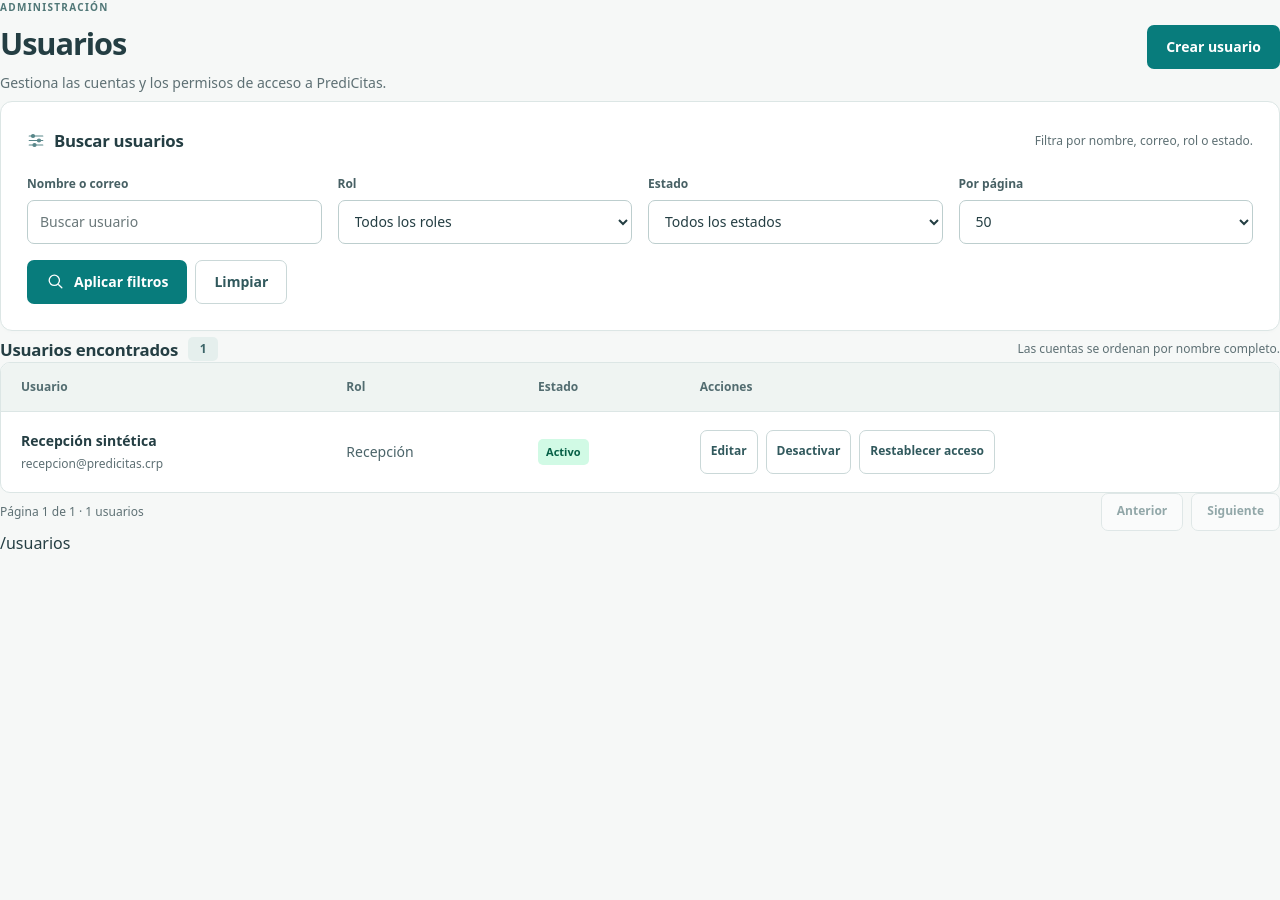
it: Usuarios: crear y editar › asocia errores 422 por campo y permite corregirlos
Expected: the table is shown, [1,363,1279,492]
Click the button "Crear usuario".
click(1214, 47)  # box [1147,25,1279,69]
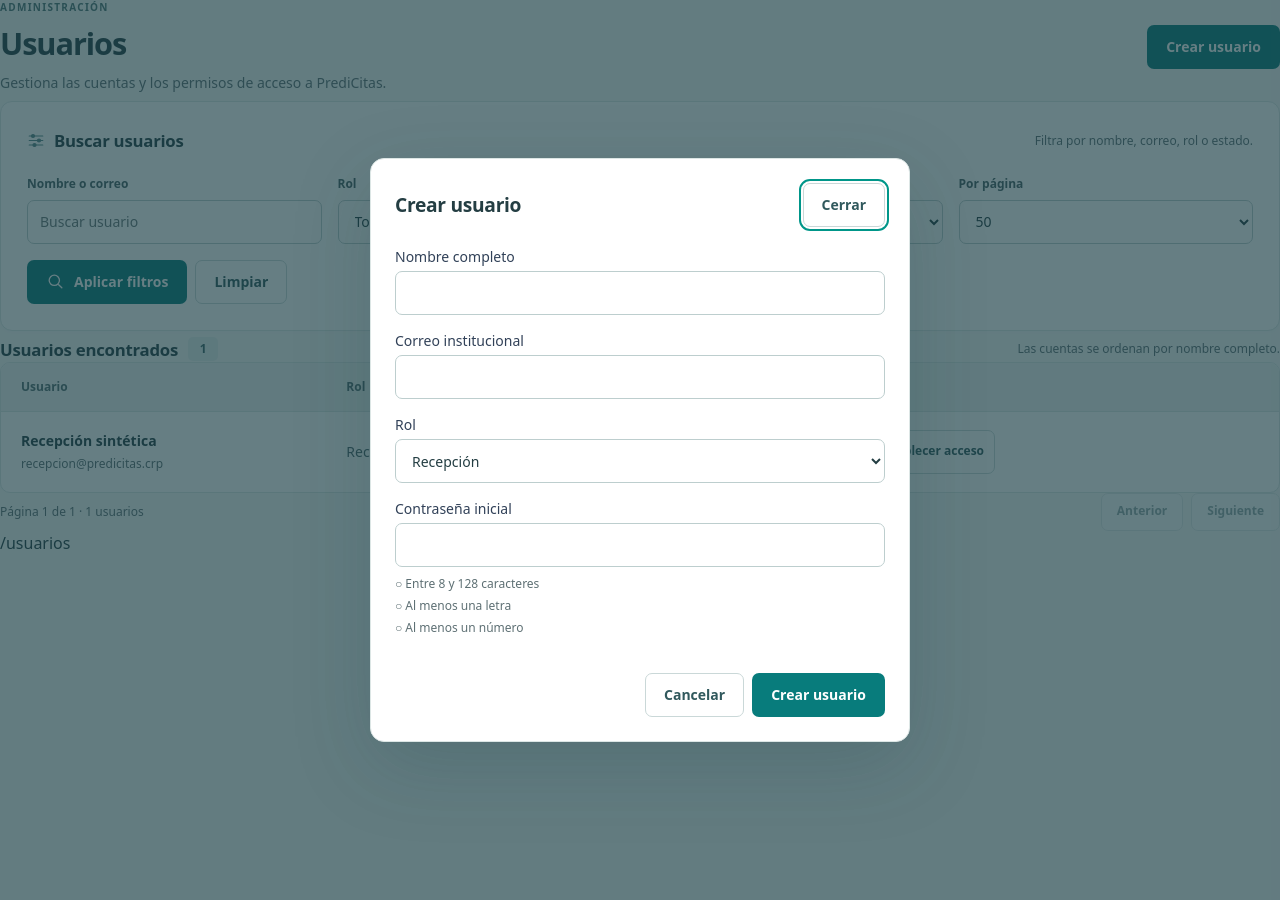
Type "Usuario sintético nuevo" into the field labelled "Nombre completo".
click(640, 293); type("Usuario sintético nuevo")  # box [395,271,885,315]
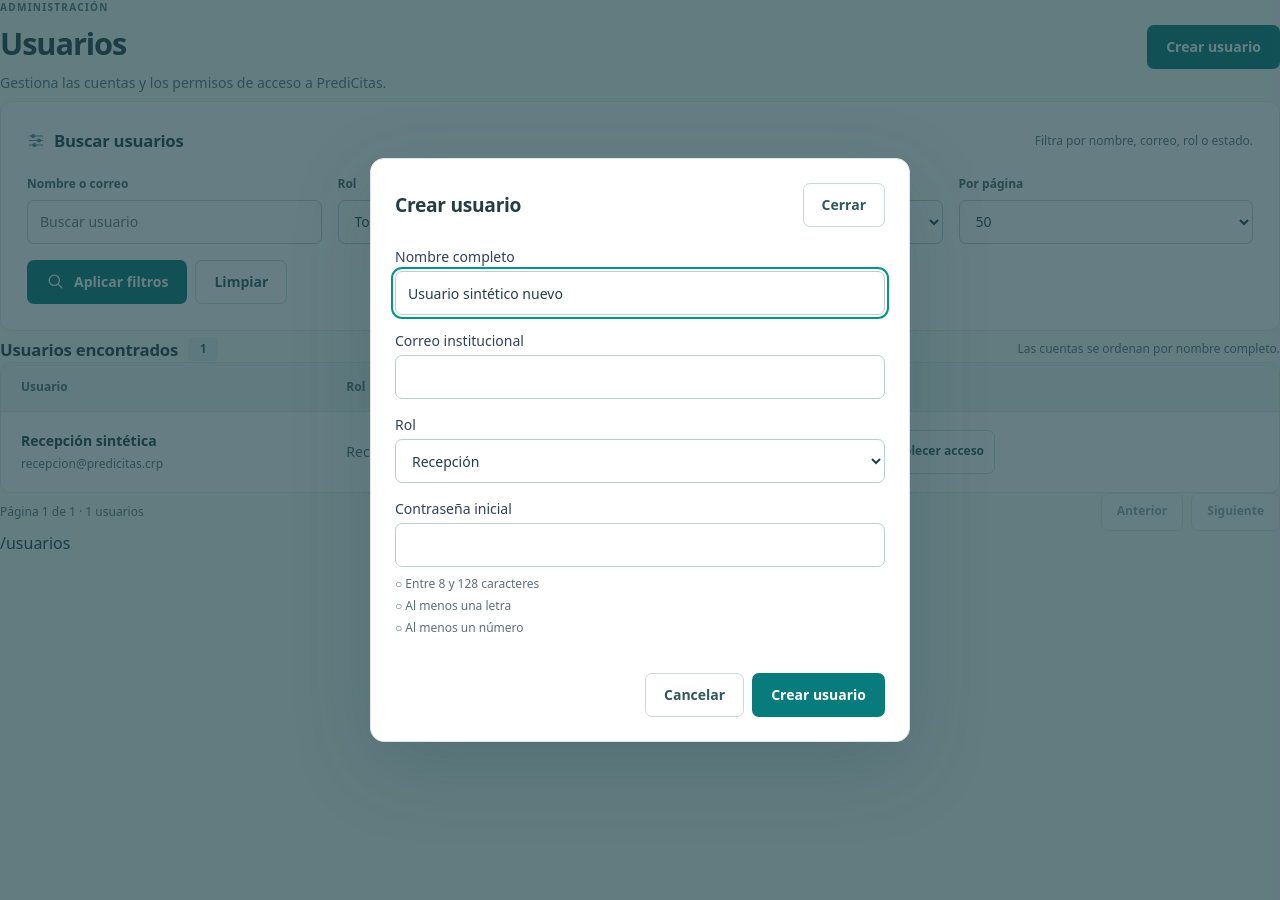
Type "NUEVO@PREDICITAS.CRP" into the field labelled "Correo institucional".
click(640, 377); type("NUEVO@PREDICITAS.CRP")  # box [395,355,885,399]
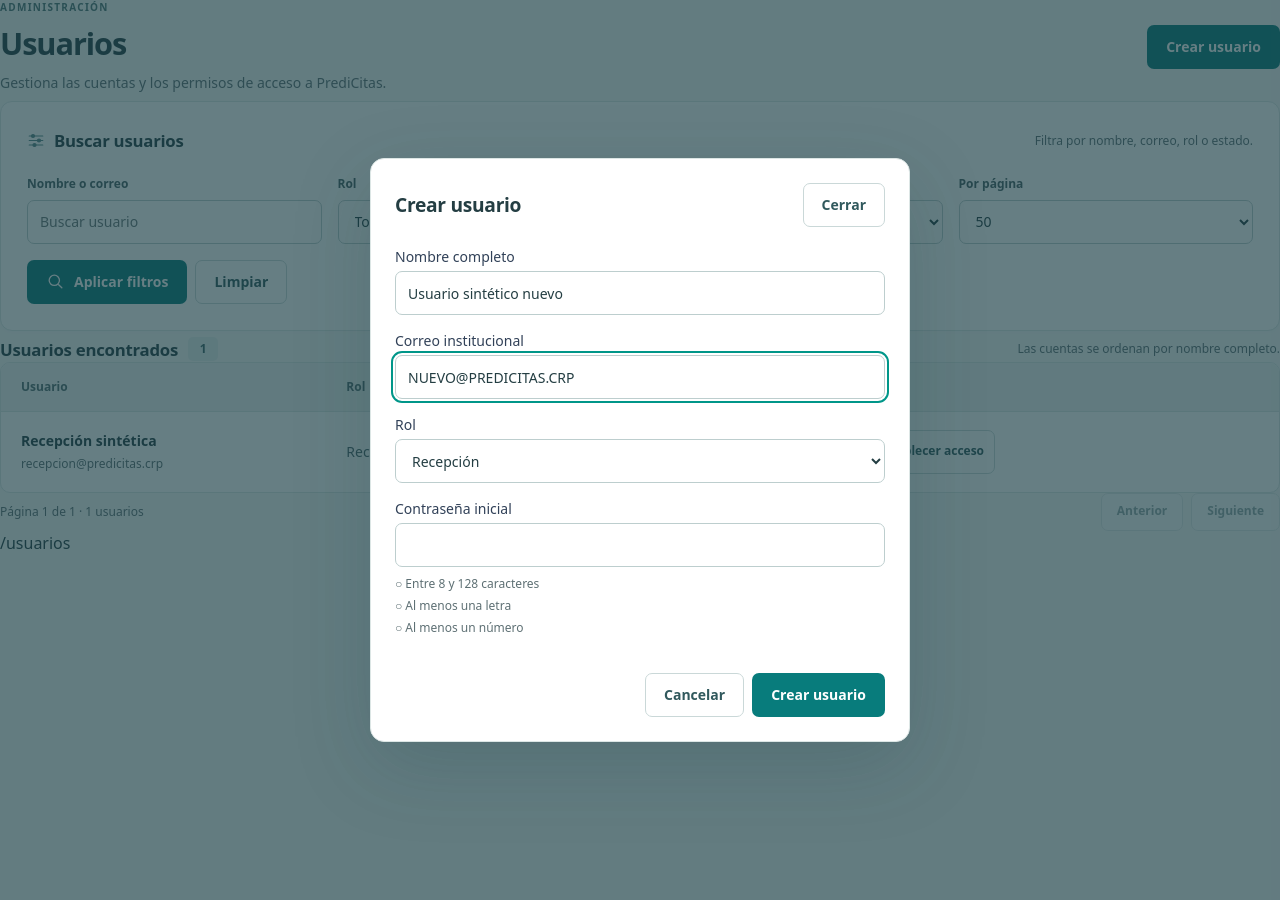
Type "ClaveSegura2026" into the password field labelled "Contraseña inicial".
click(640, 545); type("ClaveSegura2026")  # box [395,523,885,567]
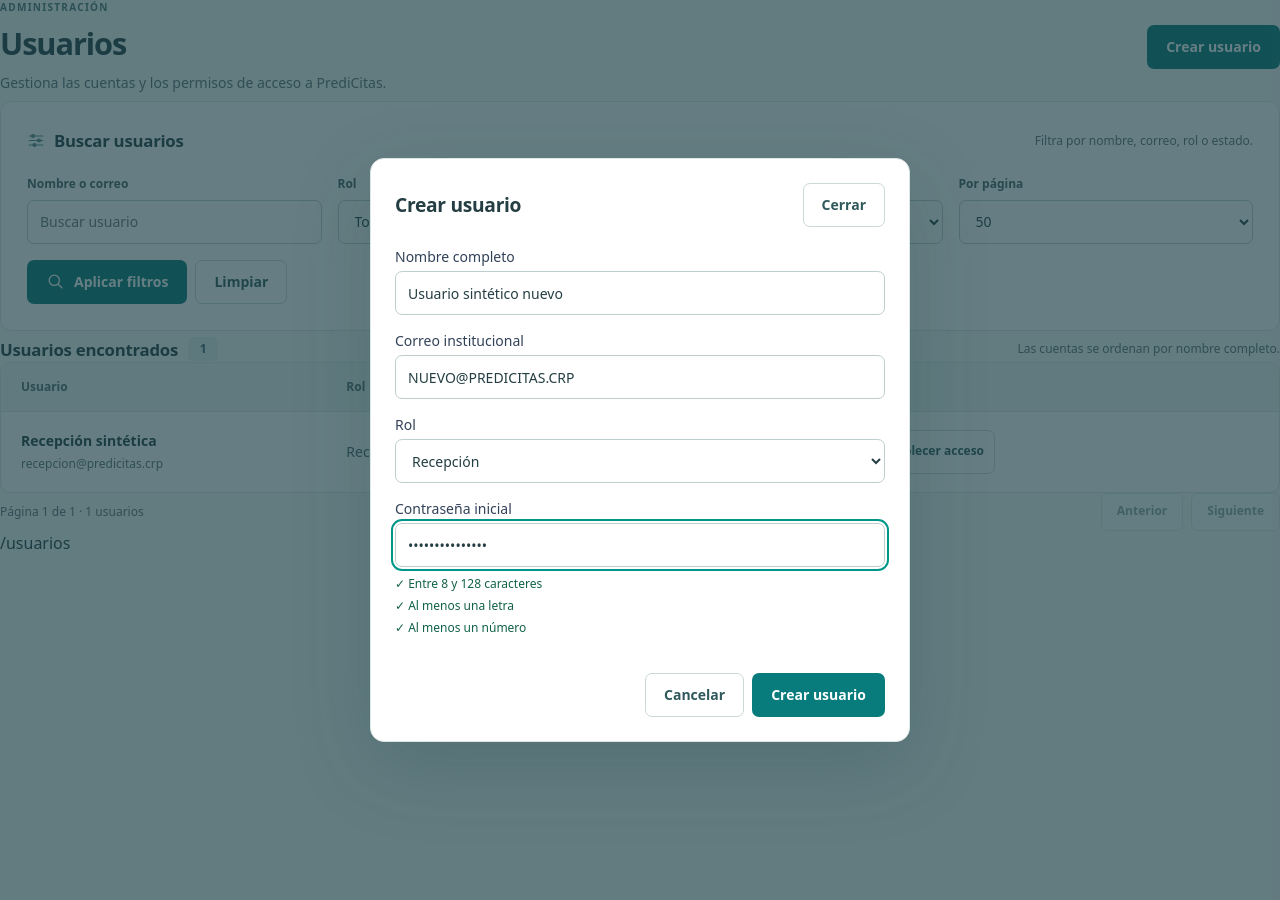
Click the button "Crear usuario".
click(819, 695)  # box [752,673,885,717]
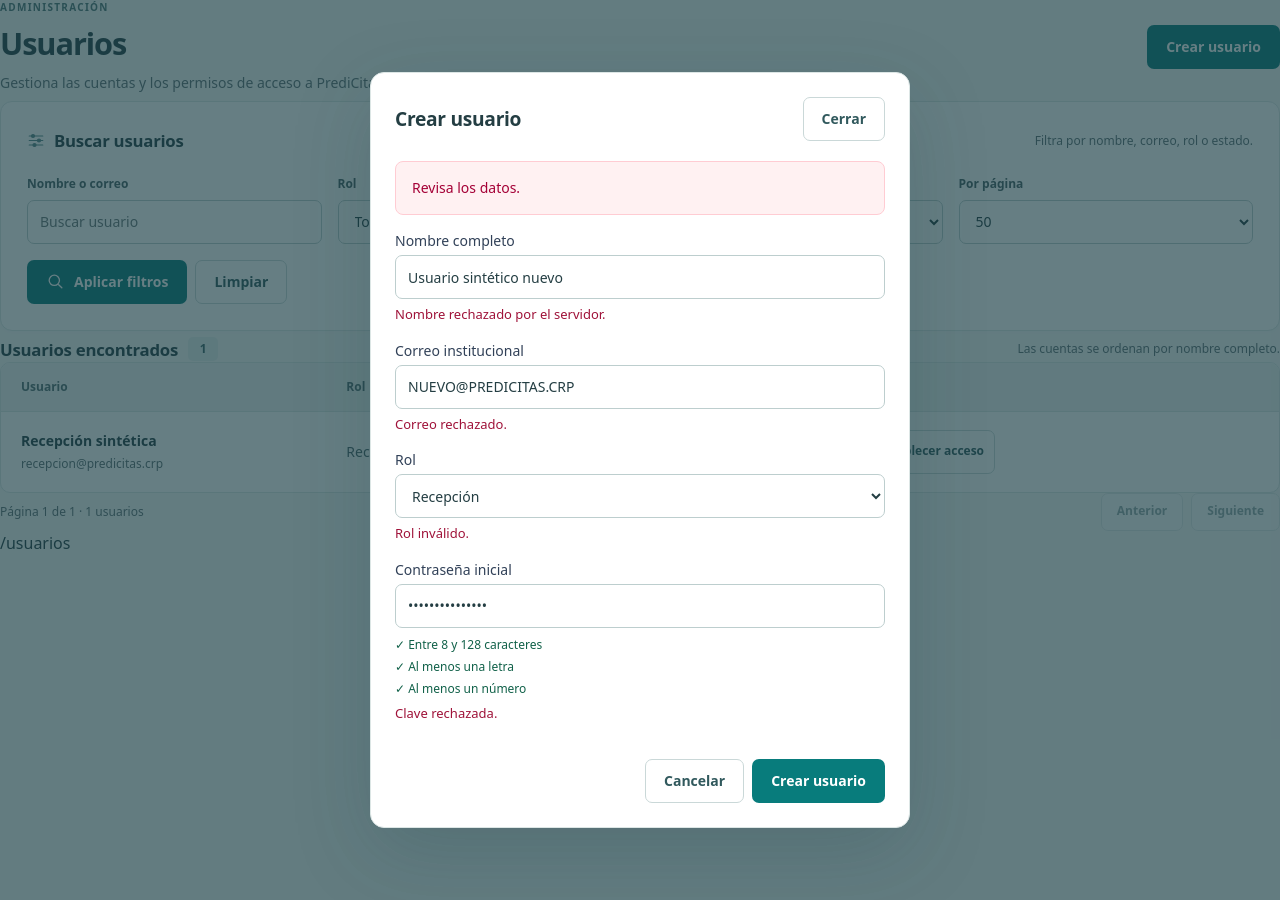
Now the message reads "Revisa los datos.", box [412,178,520,197]
Type " adicional" into the field labelled "Nombre completo".
click(640, 277); type(" adicional")  # box [395,255,885,299]
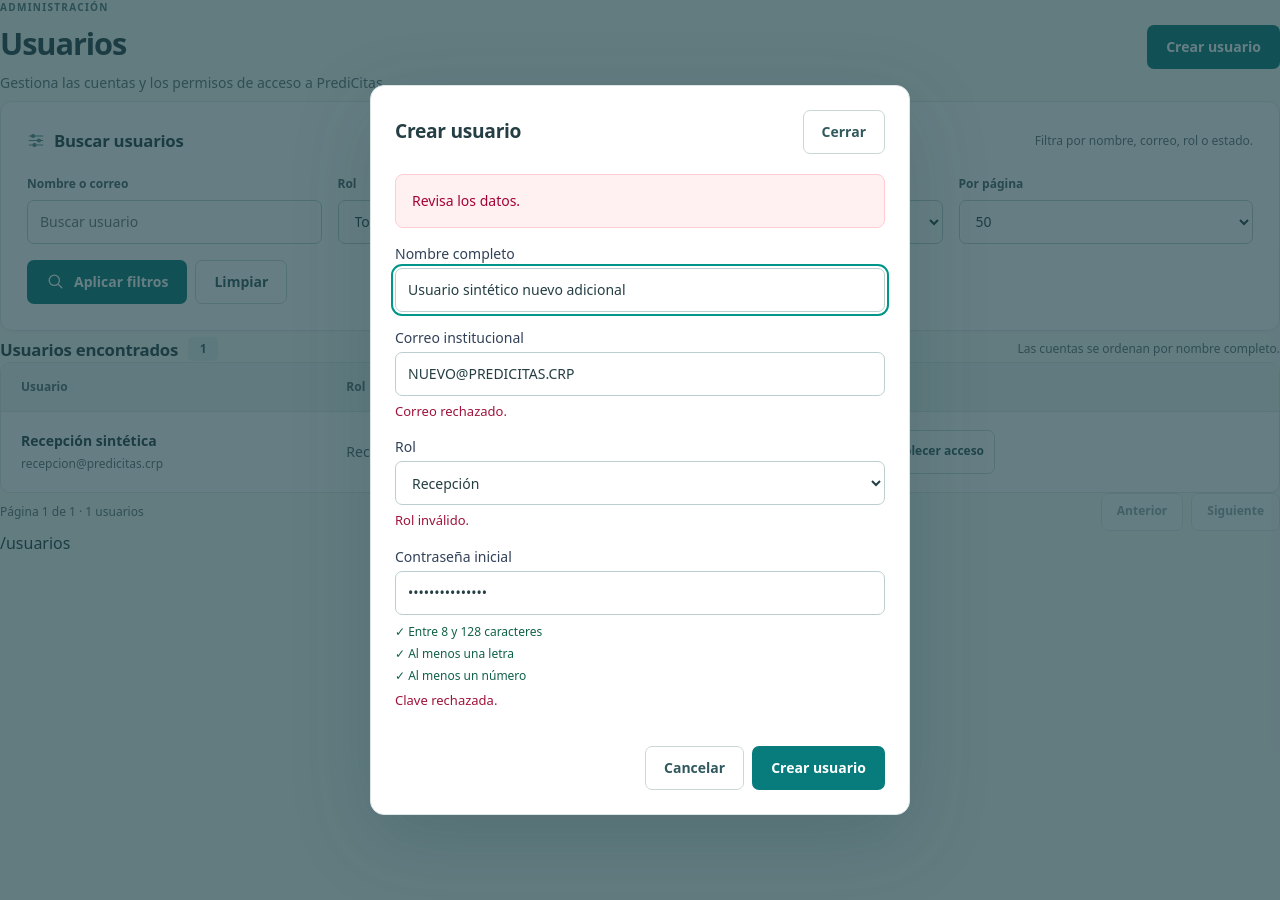
Now the text "Nombre rechazado por el servidor." is gone
